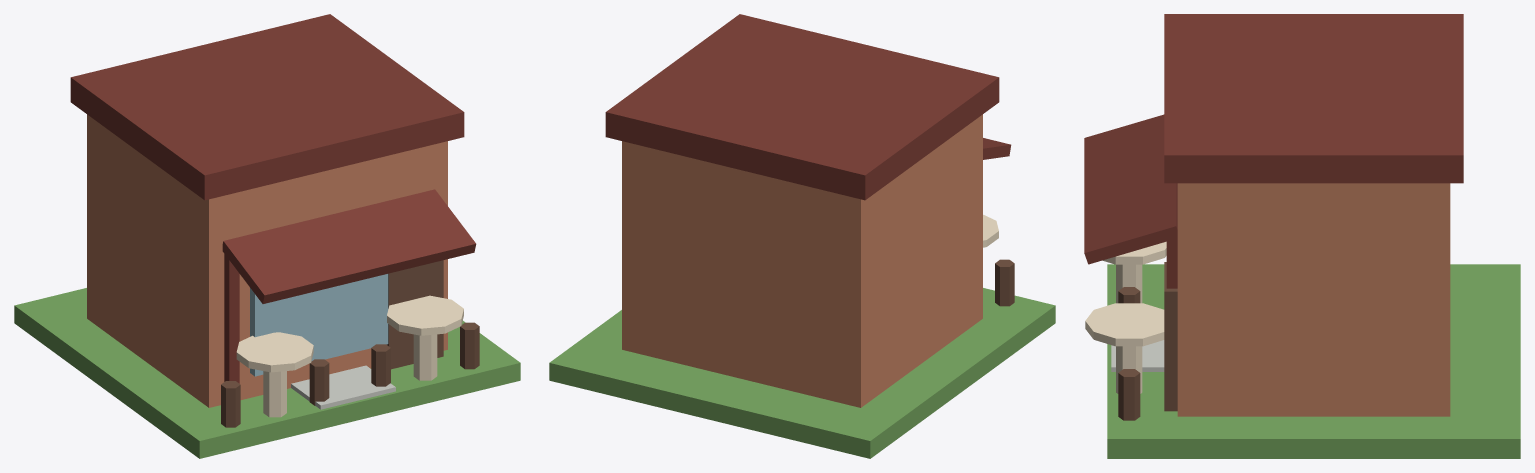
The model's file is cafe.glb.
3 views of the same model, side by side, from view 1: azimuth 30°, elevation 25°; view 2: azimuth 150°, elevation 25°; view 3: azimuth 270°, elevation 25° (orthographic). The views are drawn at different scales.
Visible parts, largest first — view 1: cafe; view 2: cafe; view 3: cafe.
Part boxes in pixels (bbox=[...]): cafe: bbox=[14, 14, 520, 458]; cafe: bbox=[549, 14, 1055, 458]; cafe: bbox=[1084, 14, 1520, 458].
Bounding box in the file's own units: 0.94 × 0.72 × 0.9923.
